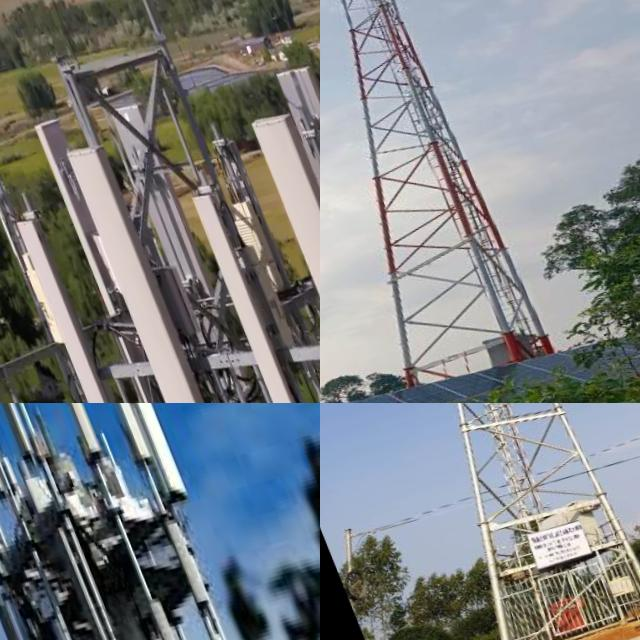GSM Antenna: (50, 128, 259, 403), (97, 83, 238, 355), (179, 175, 314, 403), (3, 206, 135, 403), (28, 114, 140, 345), (243, 88, 320, 403), (264, 46, 320, 403), (42, 522, 136, 640), (113, 403, 189, 509), (82, 403, 149, 460), (44, 403, 102, 452), (137, 591, 188, 640), (0, 403, 39, 462)
